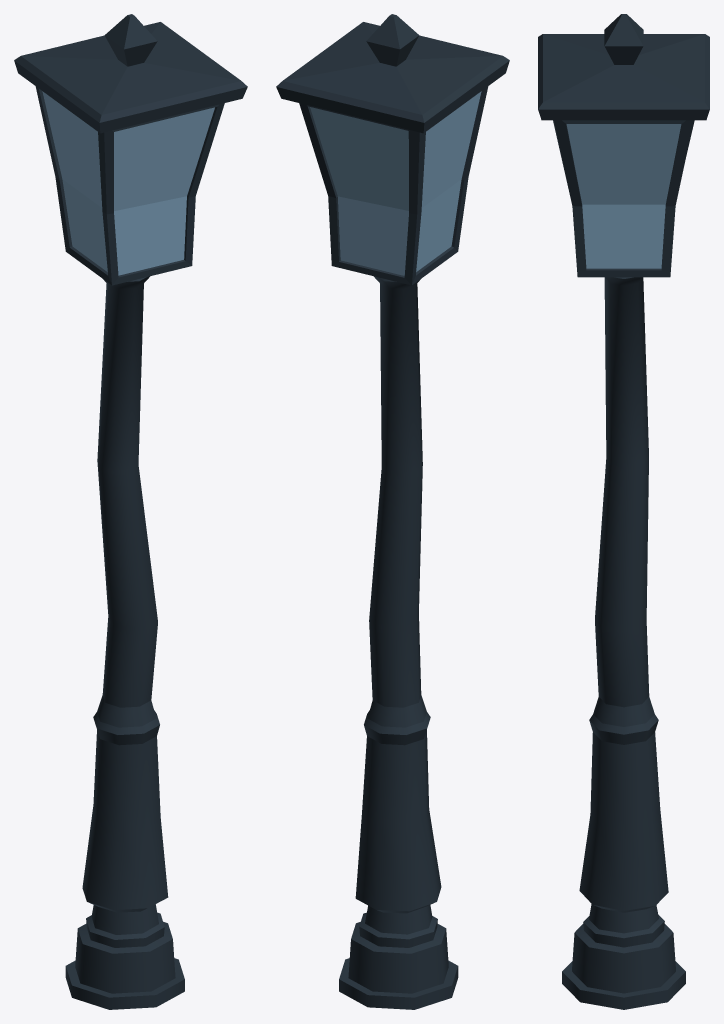
The model's file is Farola plana lleva.fbx.
The picture shows the model from 3 angles, left to right: view 1: azimuth 30°, elevation 25°; view 2: azimuth 150°, elevation 25°; view 3: azimuth 270°, elevation 25°; orthographic projection.
Visible parts, largest first — view 1: Cube.002; view 2: Cube.002; view 3: Cube.002.
Boxes of the visible parts, <box> form: Cube.002: <box>14,14,247,1009</box>; Cube.002: <box>276,14,509,1009</box>; Cube.002: <box>538,14,709,1009</box>.
Size of the model in its own units: 45.44 by 283 by 45.44.
